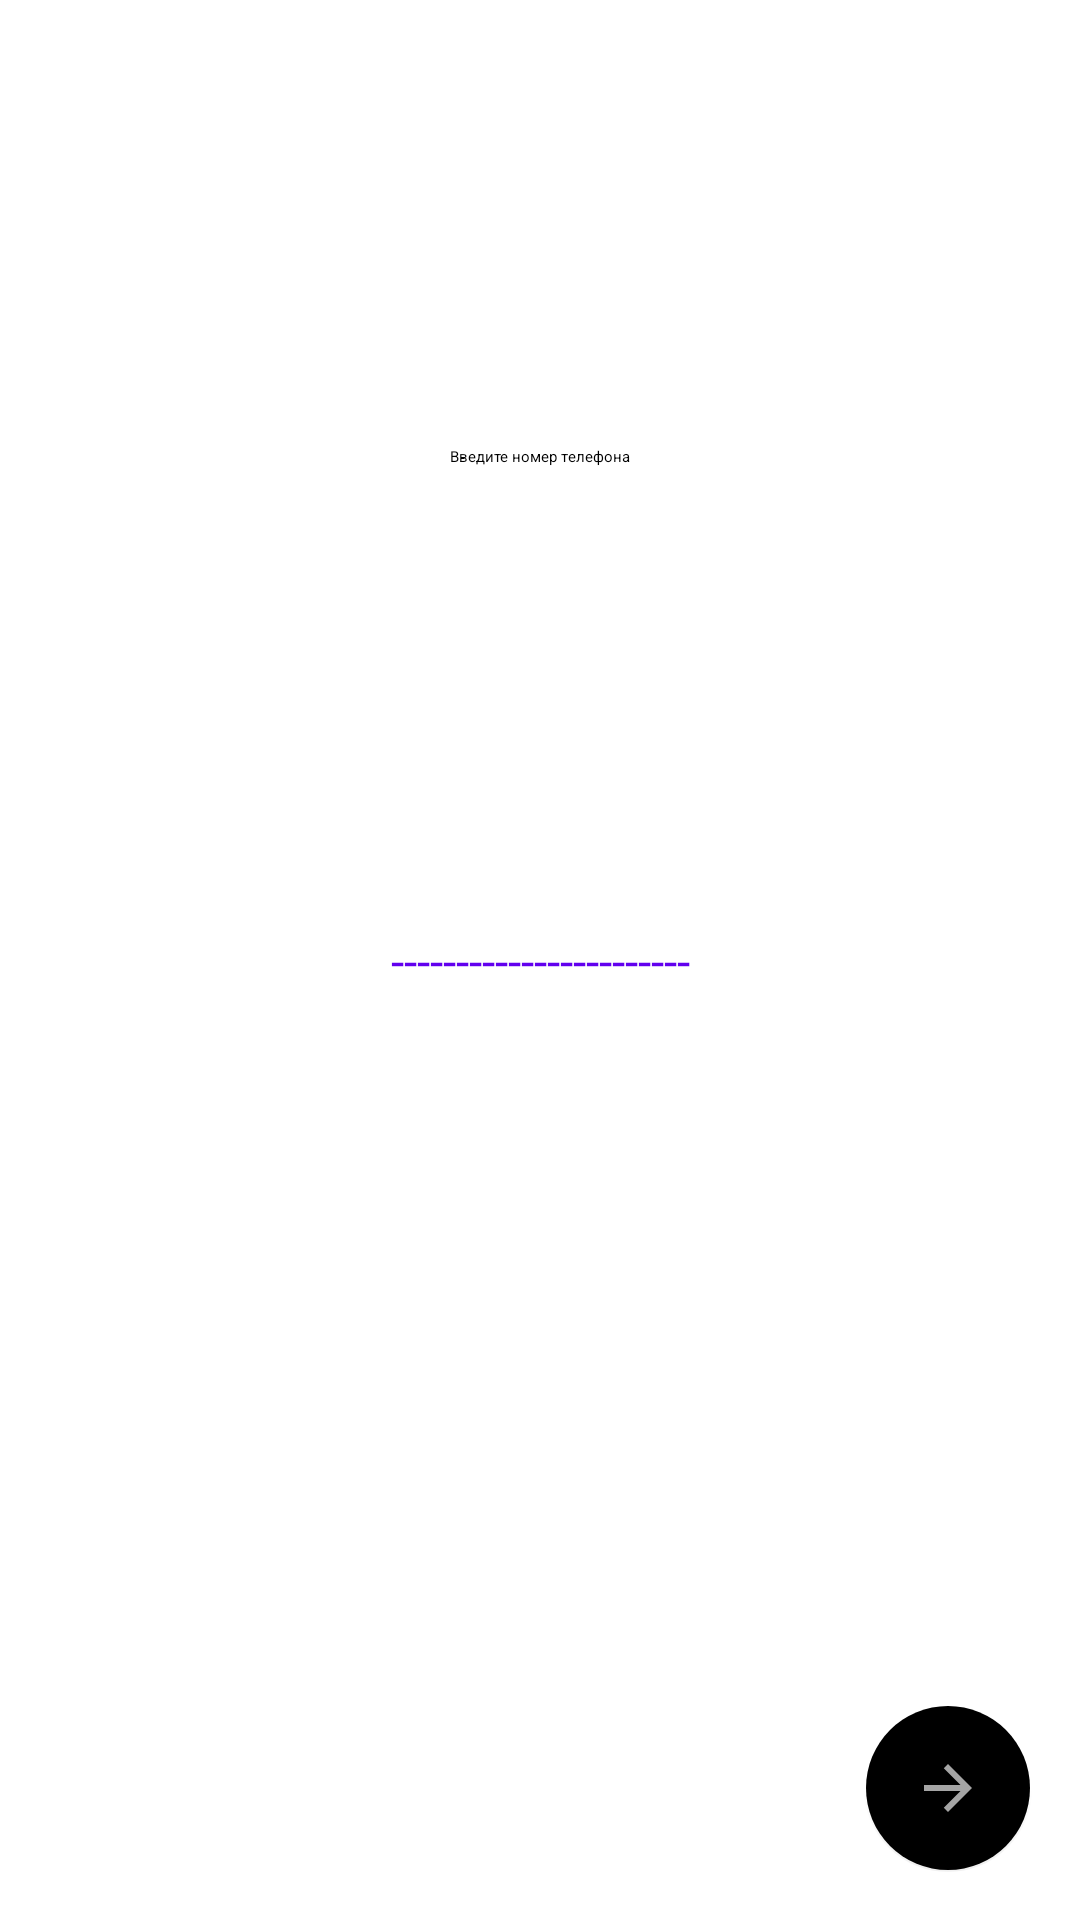

Screen size 1080px x 1920px. Icon name, then its center in pixels as (x,y):
bnt next: (948,1788)
